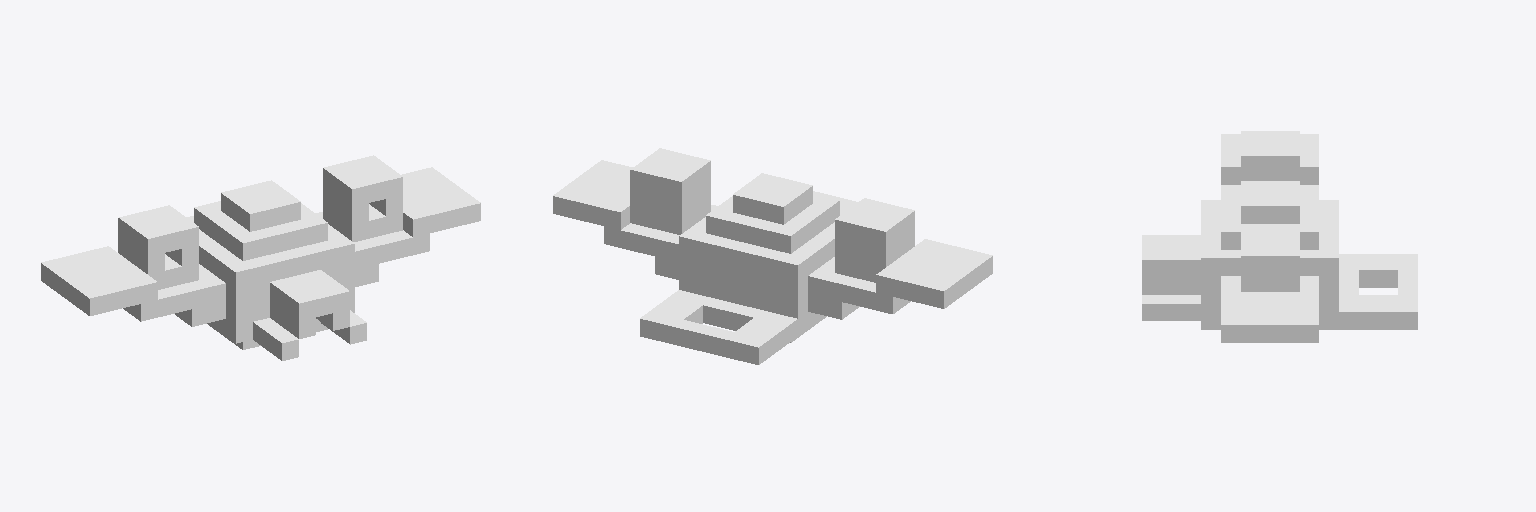
The model's file is Nave.obj.
3 views of the same model, side by side, from view 1: azimuth 30°, elevation 25°; view 2: azimuth 150°, elevation 25°; view 3: azimuth 270°, elevation 25° (orthographic).
Visible parts, largest first — view 1: object 1; view 2: object 1; view 3: object 1.
Boxes of the visible parts, box(x1,y1,x2,y2) form: object 1: box(41, 155, 480, 360); object 1: box(553, 148, 992, 364); object 1: box(1142, 131, 1417, 342).
Size of the model in its own units: 2.3 by 0.7 by 1.4.